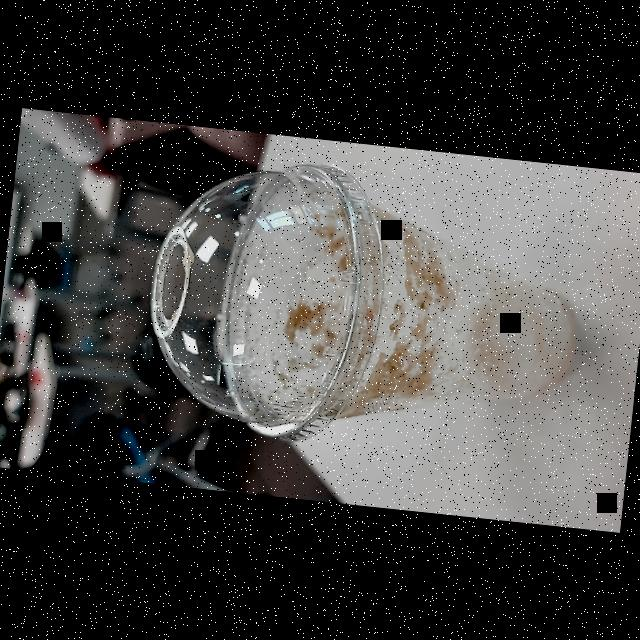plastic_cup: (126, 146, 630, 476)
plastic_cup_lid: (132, 144, 392, 450)
